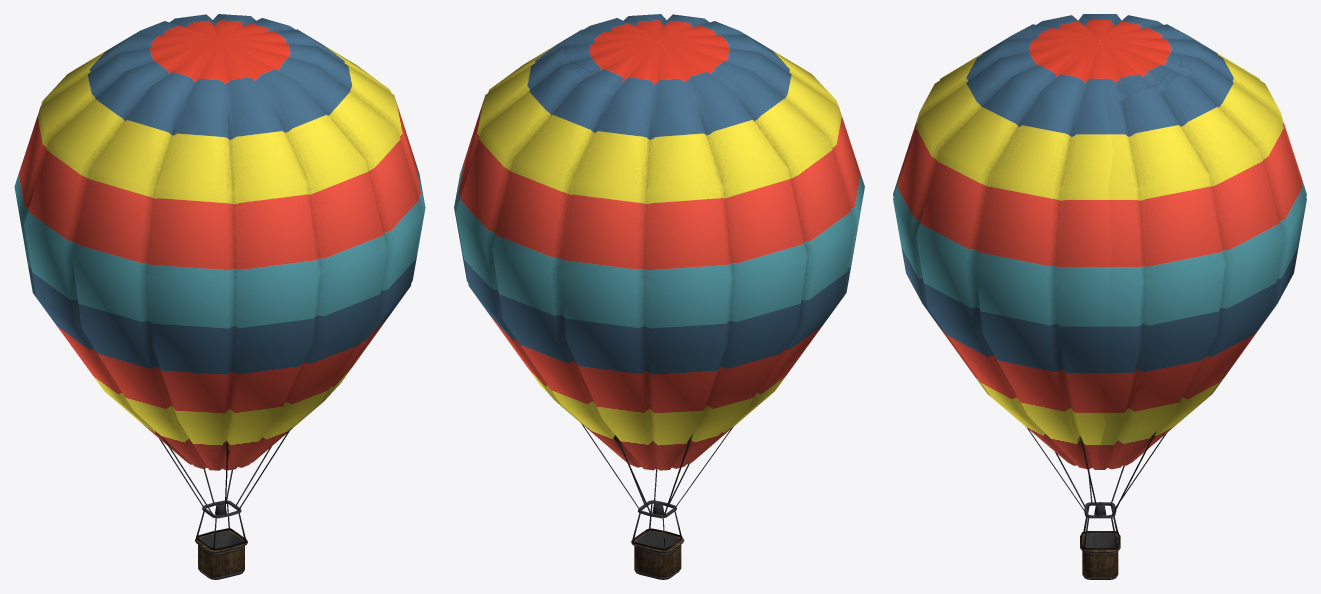
The model's file is air baloon.FBX.
3 renders of one model, left to right at view 1: azimuth 30°, elevation 25°; view 2: azimuth 150°, elevation 25°; view 3: azimuth 270°, elevation 25°, orthographic.
Parts seen in each view (by area): view 1: baloon; view 2: baloon; view 3: baloon.
Part boxes in pixels (x1,y1,x2,y2): baloon: [14, 14, 425, 579]; baloon: [454, 14, 864, 579]; baloon: [893, 14, 1306, 579].
Size of the model in its own units: 636 by 921 by 648.
1 material, 1 textured.
